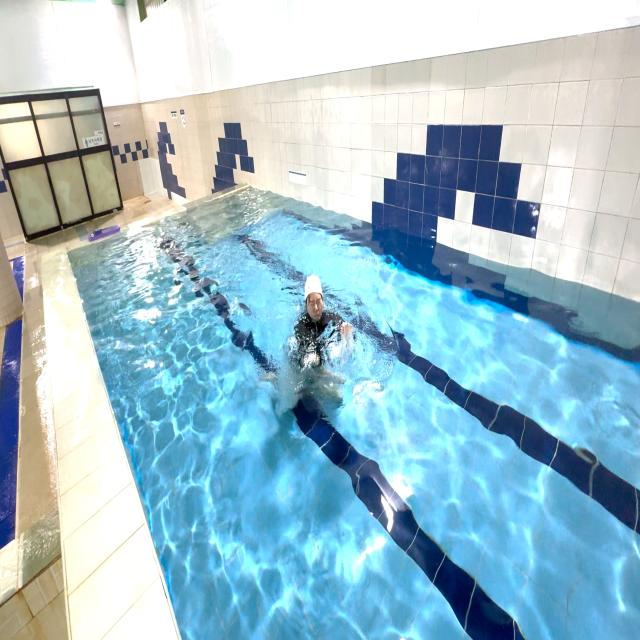Drowning: (272, 243, 366, 417)
